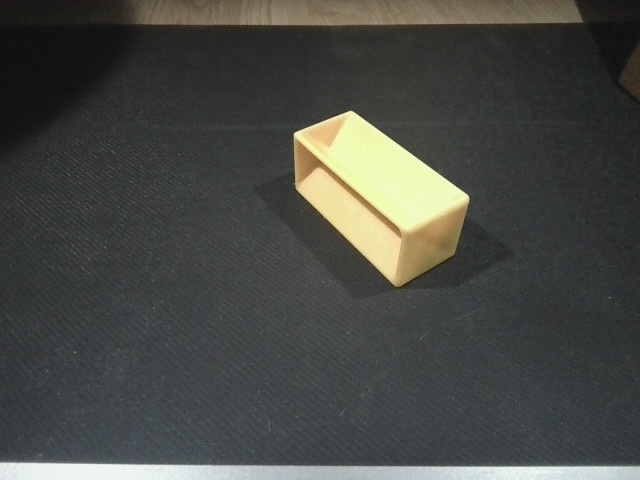YellowSample: (282, 109, 471, 294)
